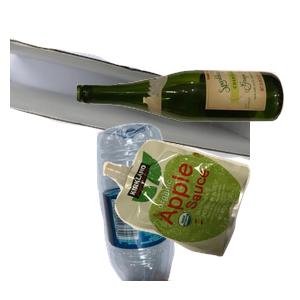cardboard: (10, 35, 250, 188)
glass: (74, 67, 300, 181)
plastic: (94, 120, 267, 300)
trash: (100, 137, 300, 300)
